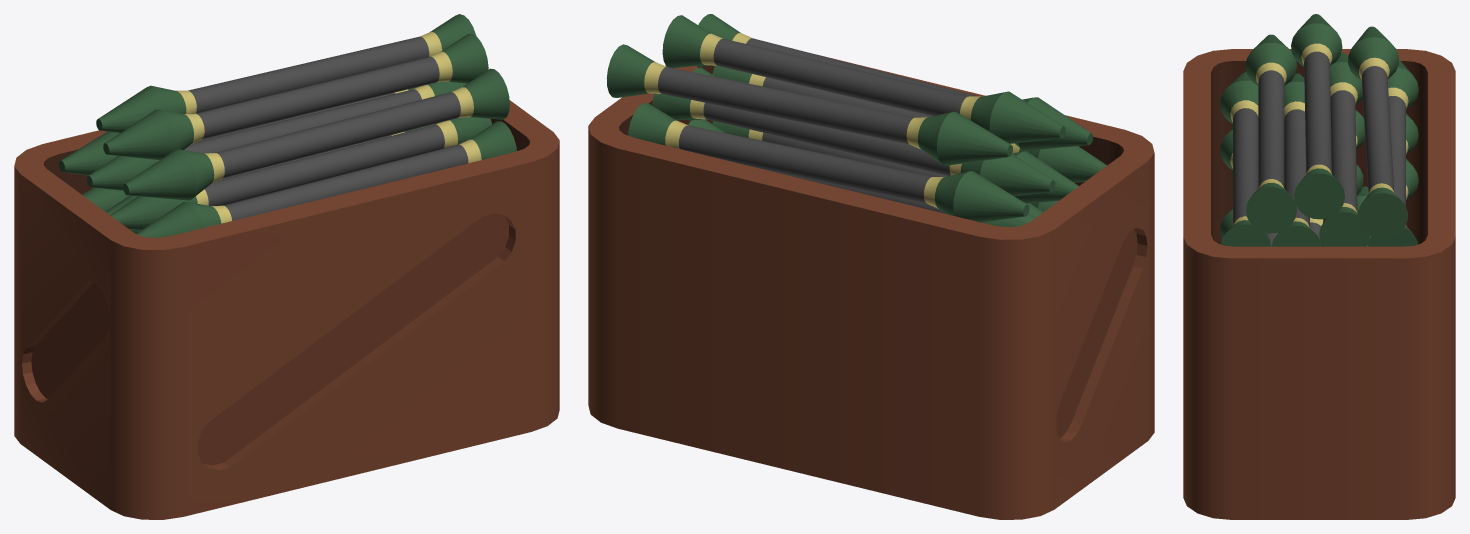
Rendered from Ammo Box F.fbx.
The picture shows the model from 3 angles, left to right: view 1: azimuth 30°, elevation 25°; view 2: azimuth 150°, elevation 25°; view 3: azimuth 270°, elevation 25°; orthographic projection. The views are drawn at different scales.
Visible parts, largest first — view 1: Ammo Box F.023, Ammo Box F.016, Ammo Box F.008, Ammo Box F.017, Ammo Box F.014, Ammo Box F, Ammo Box F.015, Ammo Box F.007, Ammo Box F.005; view 2: Ammo Box F.023, Ammo Box F.017, Ammo Box F.008, Ammo Box F.007, Ammo Box F.015, Ammo Box F, Ammo Box F.016, Ammo Box F.022, Ammo Box F.014, Ammo Box F.006; view 3: Ammo Box F.023, Ammo Box F.017, Ammo Box F.008, Ammo Box F.016, Ammo Box F.015, Ammo Box F, Ammo Box F.014, Ammo Box F.007, Ammo Box F.022, Ammo Box F.004, Ammo Box F.005.
Boxes of the visible parts, bbox=[...] form: Ammo Box F.023: bbox=[14, 100, 559, 519]; Ammo Box F.016: bbox=[123, 68, 509, 200]; Ammo Box F.008: bbox=[103, 33, 488, 160]; Ammo Box F.017: bbox=[96, 14, 476, 132]; Ammo Box F.014: bbox=[110, 117, 491, 230]; Ammo Box F: bbox=[136, 121, 516, 237]; Ammo Box F.015: bbox=[86, 81, 466, 190]; Ammo Box F.007: bbox=[59, 86, 418, 175]; Ammo Box F.005: bbox=[82, 124, 434, 211]; Ammo Box F.023: bbox=[588, 54, 1154, 519]; Ammo Box F.017: bbox=[606, 44, 1012, 165]; Ammo Box F.008: bbox=[662, 15, 1065, 143]; Ammo Box F.007: bbox=[628, 103, 1029, 222]; Ammo Box F.015: bbox=[652, 93, 1055, 196]; Ammo Box F: bbox=[712, 65, 1106, 182]; Ammo Box F.016: bbox=[697, 14, 1093, 150]; Ammo Box F.022: bbox=[712, 121, 1058, 211]; Ammo Box F.014: bbox=[687, 67, 1078, 203]; Ammo Box F.006: bbox=[766, 170, 1035, 226]; Ammo Box F.023: bbox=[1183, 49, 1455, 519]; Ammo Box F.017: bbox=[1348, 26, 1407, 238]; Ammo Box F.008: bbox=[1291, 14, 1344, 219]; Ammo Box F.016: bbox=[1245, 34, 1296, 233]; Ammo Box F.015: bbox=[1319, 52, 1370, 246]; Ammo Box F: bbox=[1220, 72, 1270, 246]; Ammo Box F.014: bbox=[1271, 73, 1321, 246]; Ammo Box F.007: bbox=[1368, 59, 1418, 246]; Ammo Box F.022: bbox=[1220, 129, 1232, 169]; Ammo Box F.004: bbox=[1367, 158, 1418, 199]; Ammo Box F.005: bbox=[1406, 113, 1418, 154].
Size of the model in its own units: 2.16 by 1.6 by 1.19.
